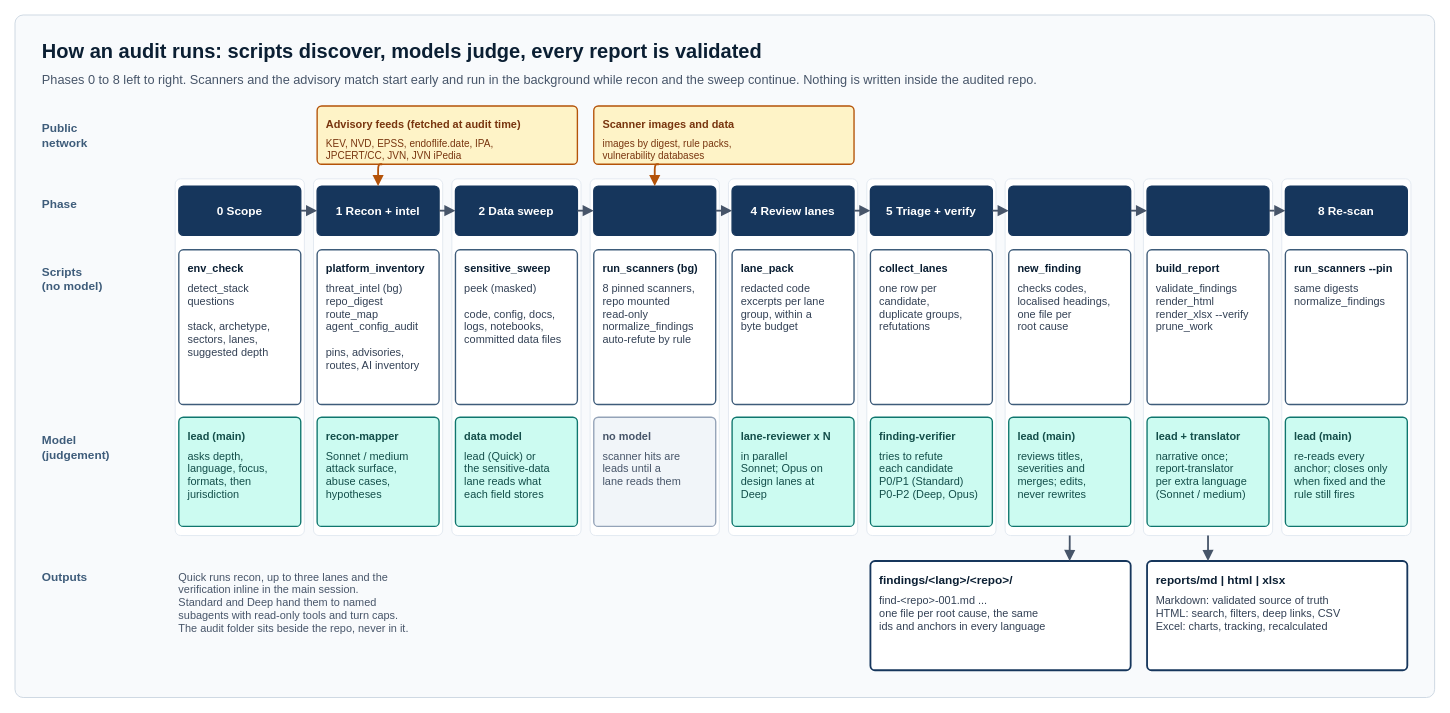
Some shapes in this 1450 by 713 pixel diagram are drawn without their labels. The box of each missing label's shape, as (x1, y1, x2, y2) in pixels:
3 Scanners: (593, 185, 716, 236)
6 Register: (1008, 185, 1131, 236)
7 Report: (1146, 185, 1269, 236)
